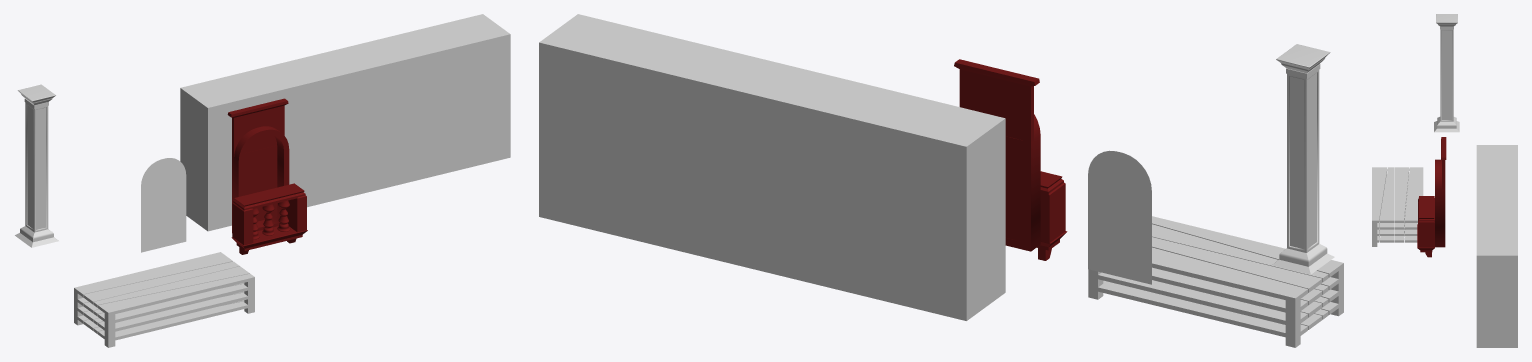
The picture shows the model from 3 angles, left to right: view 1: azimuth 30°, elevation 25°; view 2: azimuth 150°, elevation 25°; view 3: azimuth 270°, elevation 25°; orthographic projection. The views are drawn at different scales.
Visible parts, largest first — view 1: Box049, Box013, Rectangle002, Rectangle001, Plane001, Box016, Box017, Box045, Box029, Box037, Box014, Box015 (+4 smaller); view 2: Box049, Box013, Rectangle002, Rectangle001, Box016, Box043, Plane001, Box048, Box014, Box027, Box017, Box015 (+1 smaller); view 3: Box049, Box013, Rectangle001, Box016, Box014, Box017, Box015, Box004, Box006, Box028.
Part boxes in pixels (x1=…): Box049: x1=180, y1=14, x2=510, y2=231; Box013: x1=15, y1=84, x2=58, y2=247; Rectangle002: x1=141, y1=158, x2=186, y2=252; Rectangle001: x1=227, y1=98, x2=289, y2=232; Plane001: x1=244, y1=135, x2=277, y2=221; Box016: x1=74, y1=252, x2=232, y2=296; Box017: x1=98, y1=273, x2=254, y2=315; Box045: x1=98, y1=301, x2=254, y2=341; Box029: x1=98, y1=284, x2=254, y2=324; Box037: x1=98, y1=292, x2=254, y2=333; Box014: x1=83, y1=261, x2=239, y2=304; Box015: x1=93, y1=266, x2=249, y2=307; Box049: x1=539, y1=14, x2=1005, y2=320; Box013: x1=1272, y1=44, x2=1334, y2=274; Rectangle002: x1=1088, y1=150, x2=1151, y2=284; Rectangle001: x1=954, y1=59, x2=1040, y2=251; Box016: x1=1152, y1=247, x2=1307, y2=302; Box043: x1=1096, y1=280, x2=1307, y2=339; Plane001: x1=975, y1=106, x2=1027, y2=241; Box048: x1=1088, y1=272, x2=1307, y2=327; Box014: x1=1152, y1=237, x2=1322, y2=292; Box027: x1=1152, y1=267, x2=1307, y2=314; Box017: x1=1152, y1=216, x2=1343, y2=277; Box015: x1=1152, y1=224, x2=1328, y2=282; Box049: x1=1476, y1=145, x2=1517, y2=347; Box013: x1=1434, y1=14, x2=1459, y2=132; Rectangle001: x1=1435, y1=137, x2=1446, y2=247; Box016: x1=1404, y1=167, x2=1423, y2=222; Box014: x1=1394, y1=167, x2=1409, y2=222; Box017: x1=1372, y1=167, x2=1387, y2=222; Box015: x1=1379, y1=167, x2=1394, y2=222; Box004: x1=1418, y1=218, x2=1434, y2=247; Box006: x1=1418, y1=196, x2=1434, y2=221; Box028: x1=1394, y1=174, x2=1409, y2=229.
Bounding box in the file's own units: 460 × 194 × 153.
